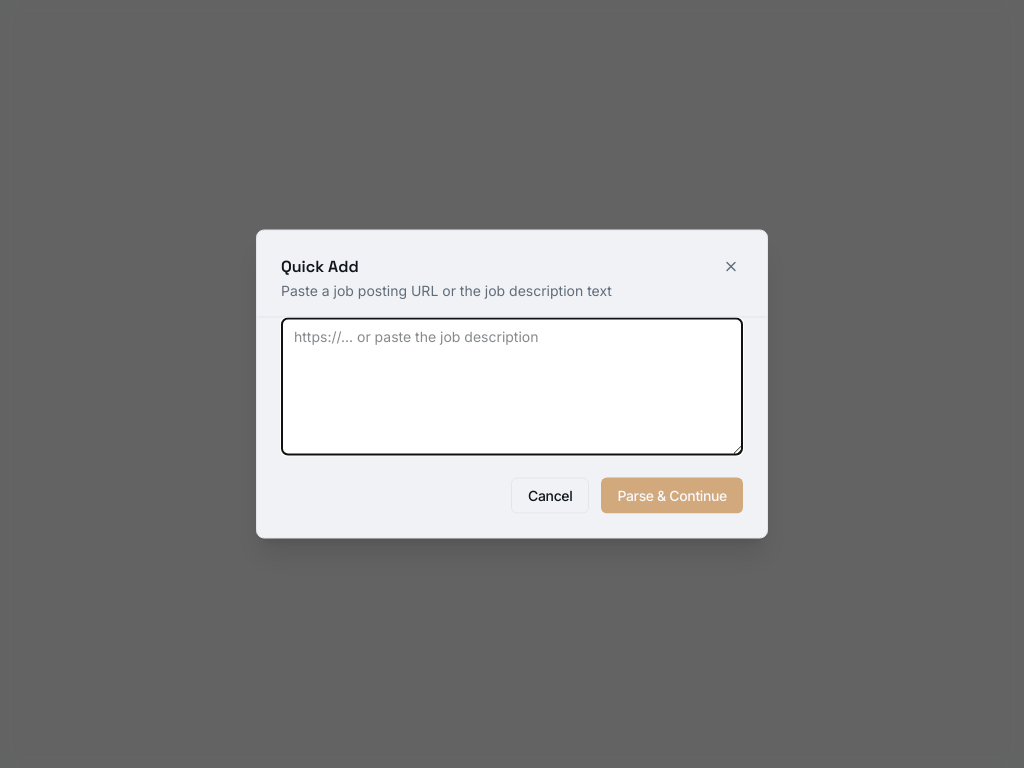
it: QuickAdd › swaps to the job form pre-filled from the parsed result on success
The width and height of the screenshot is (1024, 768).
Type "Senior Engineer at Acme" into the text box with placeholder "https://... or paste the job description" at (512, 386), box [281,318,743,456]
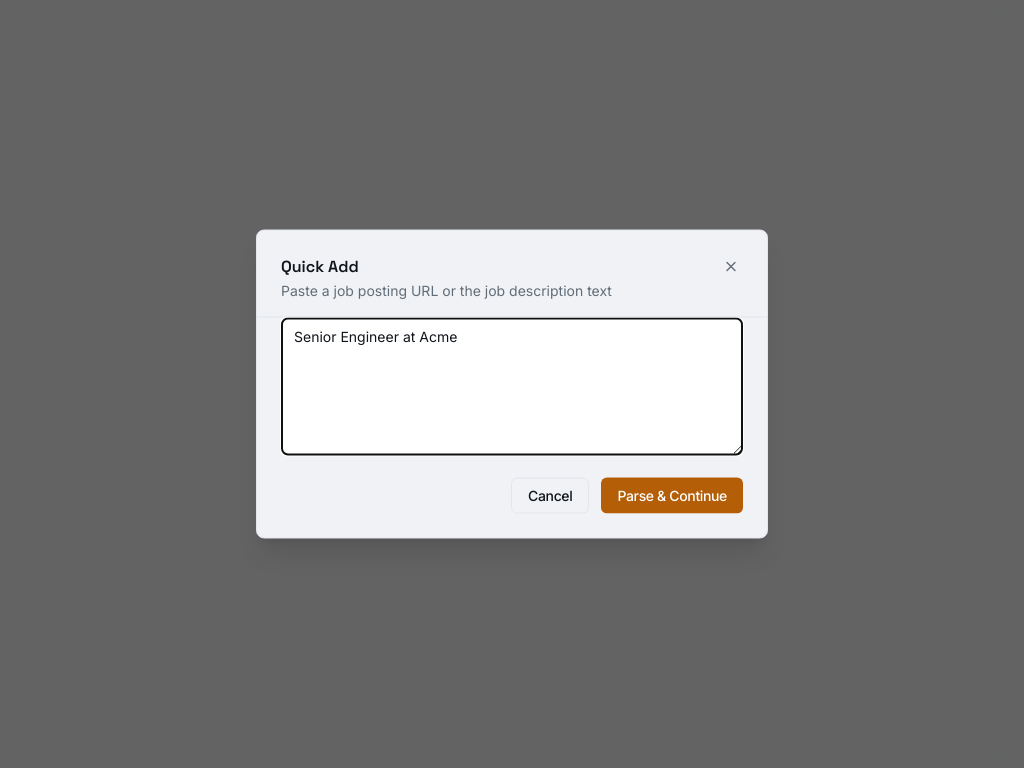
Click the button "Parse & Continue" at (672, 496), box [601,478,743,514]
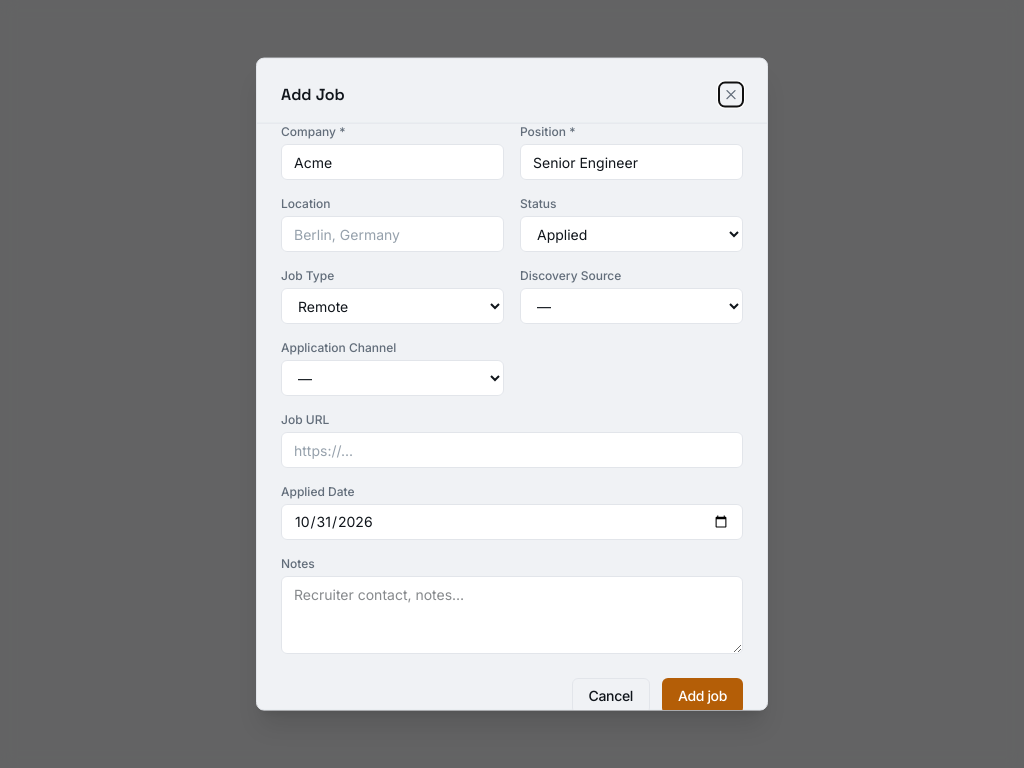
Expected: the heading "Add Job" is shown, [281,83,345,107]
Expected: the field labelled "Company *" holds "Acme", [281,144,504,180]
Expected: the field labelled "Position *" holds "Senior Engineer", [520,144,743,180]
